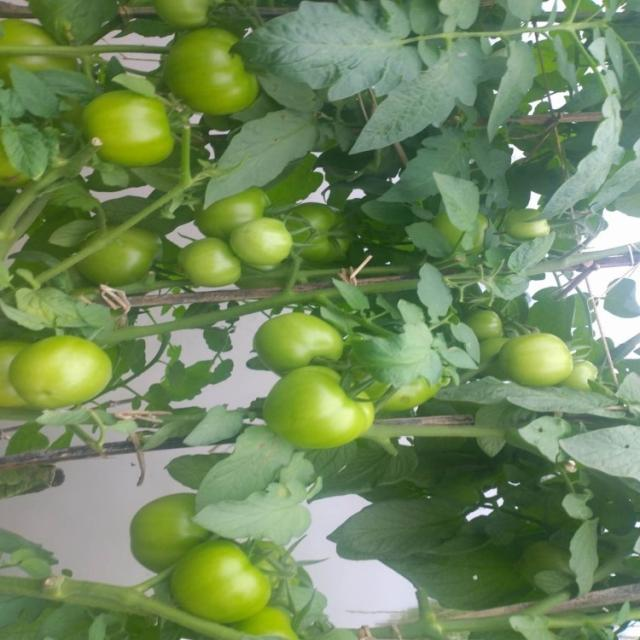tomato: (259, 365, 385, 459), (162, 536, 285, 623), (120, 486, 230, 573), (169, 25, 272, 114), (68, 82, 173, 167), (254, 316, 358, 378), (24, 335, 120, 402), (81, 225, 175, 289), (288, 195, 361, 273), (1, 10, 77, 80), (187, 231, 258, 296), (508, 326, 581, 383), (240, 213, 294, 281), (236, 604, 326, 640), (211, 189, 280, 234), (1, 326, 34, 408), (150, 1, 227, 31), (474, 307, 512, 366), (505, 210, 552, 237)
